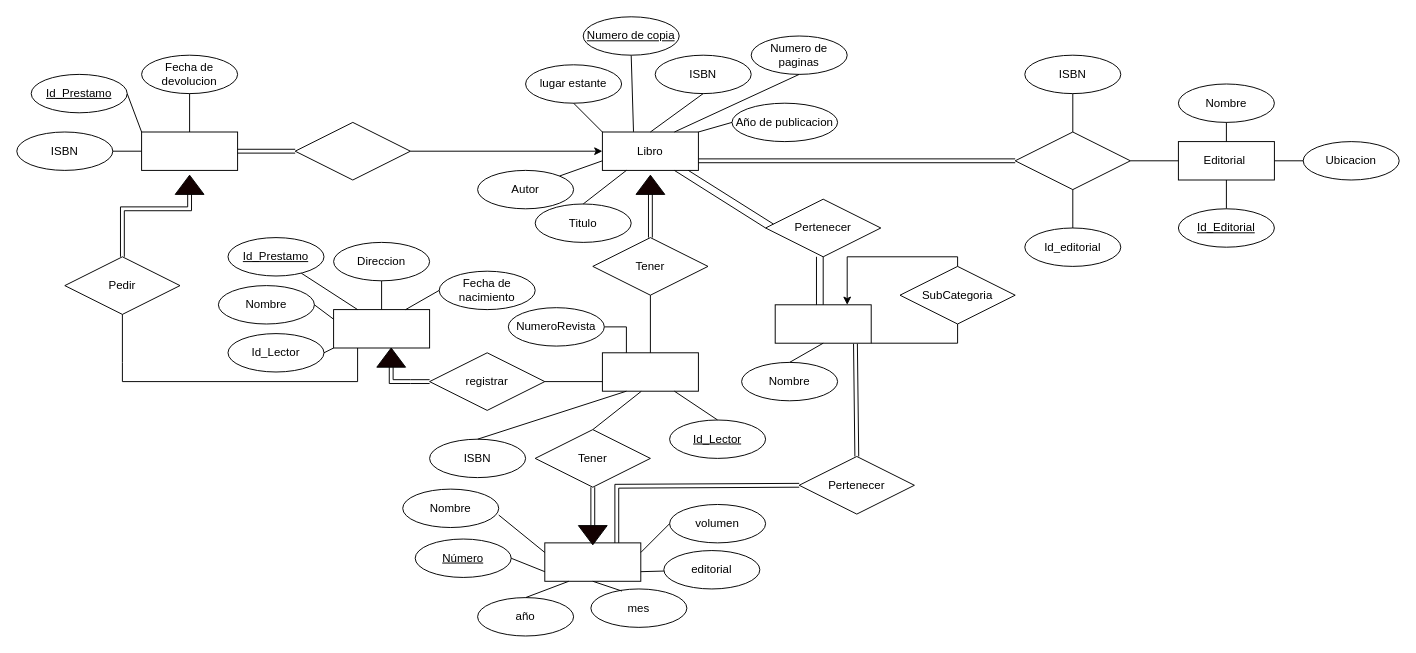
This 1416x653 diagram has some shape labels left out. Here are the shapes that lost their labels. From the top down, the centre of each, then its label:
[189,150]: Prestado
[352,150]: Prestar
[1072,160]: Publicar
[381,328]: Lector
[822,323]: Categoria
[649,371]: Biblioteca
[592,561]: Revista
